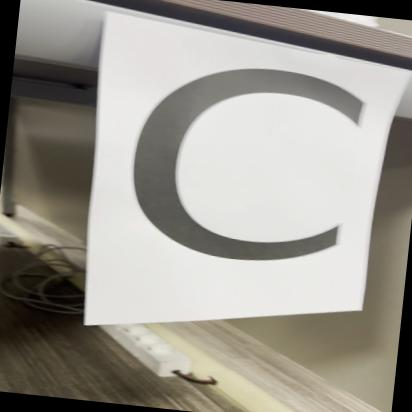seat: (75, 8, 385, 320)
